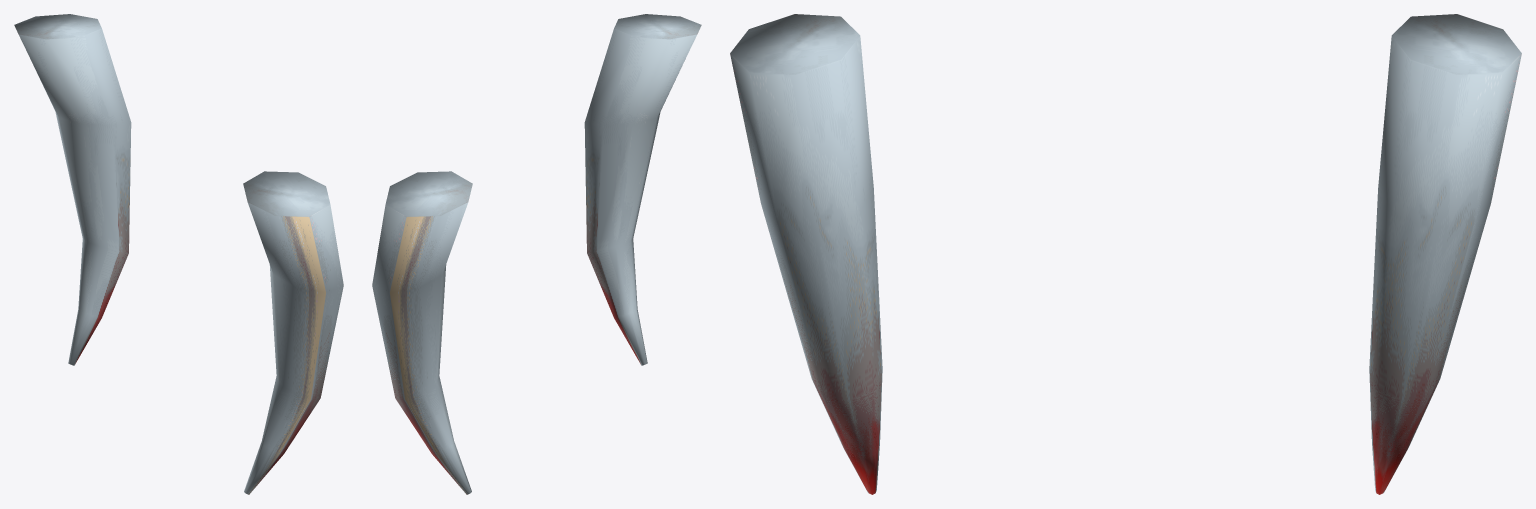
The model's file is Fangs.glb.
3 renders of one model, left to right at view 1: azimuth 30°, elevation 25°; view 2: azimuth 150°, elevation 25°; view 3: azimuth 270°, elevation 25°, orthographic. The views are drawn at different scales.
Parts seen in each view (by area): view 1: Fangs; view 2: Fangs; view 3: Fangs.
Part boxes in pixels (box(x1,y1,x2,y2)): Fangs: box(14, 14, 343, 494); Fangs: box(372, 14, 701, 494); Fangs: box(730, 14, 1521, 494).
Size of the model in its own units: 0.0966 by 0.2964 by 0.4553.
Materials: 1 (1 with a texture image).
